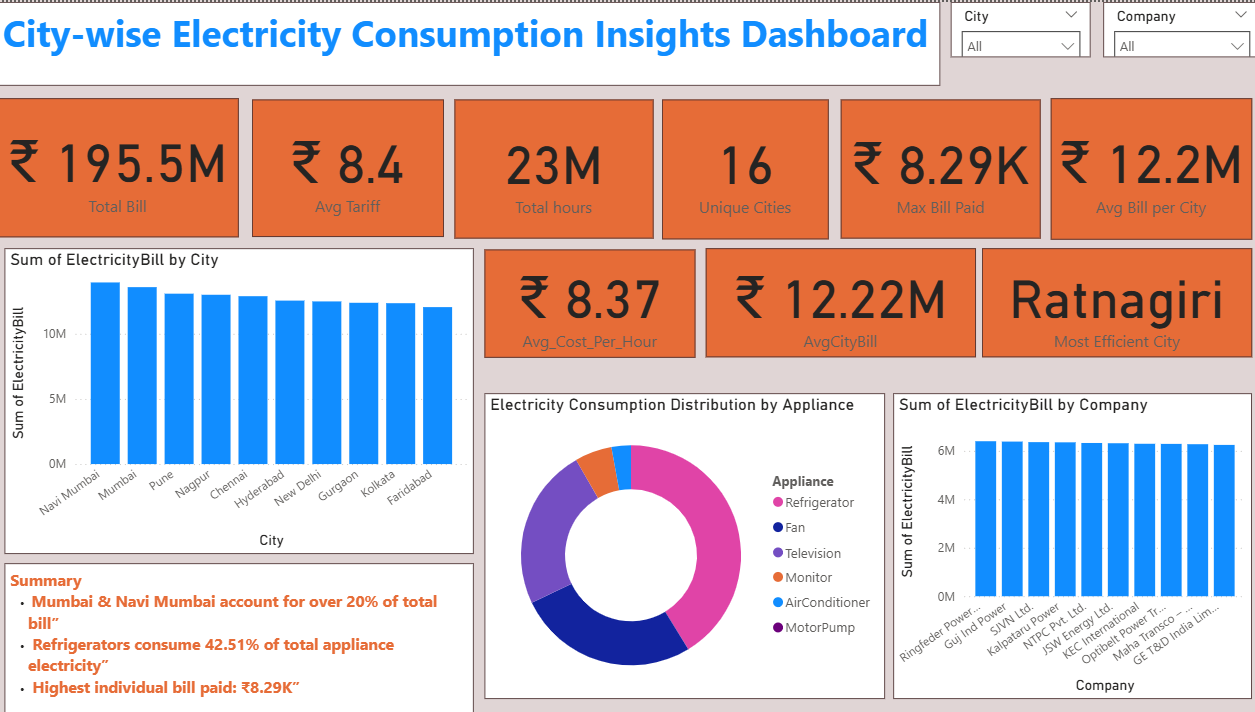

Layout of this report page (visuals, bound fields, positions):
{"tool":"powerbi","page":{"name":"electricity consumption","canvas":[1280,720],"ordinal":0},"visuals":[{"type":"card","fields":{"Values":["electricity.Total Bill"]},"box":[0,112,248.8,155.5],"z":0},{"type":"card","fields":{"Values":["electricity.Avg Tariff"]},"box":[240.9,112.6,256.6,155.4],"z":1000},{"type":"card","fields":{"Values":["electricity.Total hours"]},"box":[494,112.5,290.9,155.1],"z":2000},{"type":"card","fields":{"Values":["electricity.Unique Cities"]},"box":[776.2,112,273.7,155.5],"z":3000},{"type":"card","fields":{"Values":["electricity.Max Bill Paid"]},"box":[1036.2,112,243.8,155.5],"z":4000},{"type":"columnChart","fields":{"Category":["electricity.City"],"Y":["Sum(electricity.ElectricityBill)"]},"box":[0,367.8,483,352.7],"z":5000},{"type":"donutChart","title":"Electricity Consumption Distribution by Appliance","fields":{"Y":["Sum(electricity.Fan)","Sum(electricity.Monitor)","Sum(electricity.Refrigerator)","Sum(electricity.Television)"]},"box":[482.7,376.9,414.2,343.3],"z":6000},{"type":"textbox","box":[0,0,955.1,112.5],"z":7000},{"type":"columnChart","fields":{"Category":["electricity.Company"],"Y":["Sum(electricity.ElectricityBill)"]},"box":[908.4,373.2,371.9,347.2],"z":8000},{"type":"slicer","fields":{"Values":["electricity.City"]},"box":[978.4,0,142.7,56.3],"z":9000},{"type":"slicer","fields":{"Values":["electricity.Company"]},"box":[1121.1,0,159.2,78.2],"z":10000},{"type":"textbox","box":[0,267.6,526.9,100.2],"z":11000},{"type":"card","fields":{"Values":["electricity.AvgCityBill"]},"box":[482.7,266.2,273.7,110.7],"z":13000},{"type":"card","fields":{"Values":["electricity.Min_Cost_City"]},"box":[756.3,266.2,301,110.7],"z":14000},{"type":"card","fields":{"Values":["electricity.Avg Bill per City"]},"box":[1049.9,266.2,230.1,110.7],"z":15000}]}

Visuals, with their boxes in screenshot pixels (x1, y1, x2, y2), scaled from the page's 1280x720 canvas onto the 1255x712 screenshot:
card - electricity.Total Bill: (0, 111, 244, 265)
card - electricity.Avg Tariff: (236, 111, 488, 265)
card - electricity.Total hours: (484, 111, 770, 265)
card - electricity.Unique Cities: (761, 111, 1029, 265)
card - electricity.Max Bill Paid: (1016, 111, 1254, 265)
columnChart - electricity.City x Sum(electricity.ElectricityBill): (0, 364, 474, 711)
"Electricity Consumption Distribution by Appliance" donutChart: (473, 373, 879, 711)
textbox: (0, 0, 936, 111)
columnChart - electricity.Company x Sum(electricity.ElectricityBill): (891, 369, 1254, 711)
slicer - electricity.City: (959, 0, 1099, 56)
slicer - electricity.Company: (1099, 0, 1254, 77)
textbox: (0, 265, 517, 364)
card - electricity.AvgCityBill: (473, 263, 742, 373)
card - electricity.Min_Cost_City: (742, 263, 1037, 373)
card - electricity.Avg Bill per City: (1029, 263, 1254, 373)
